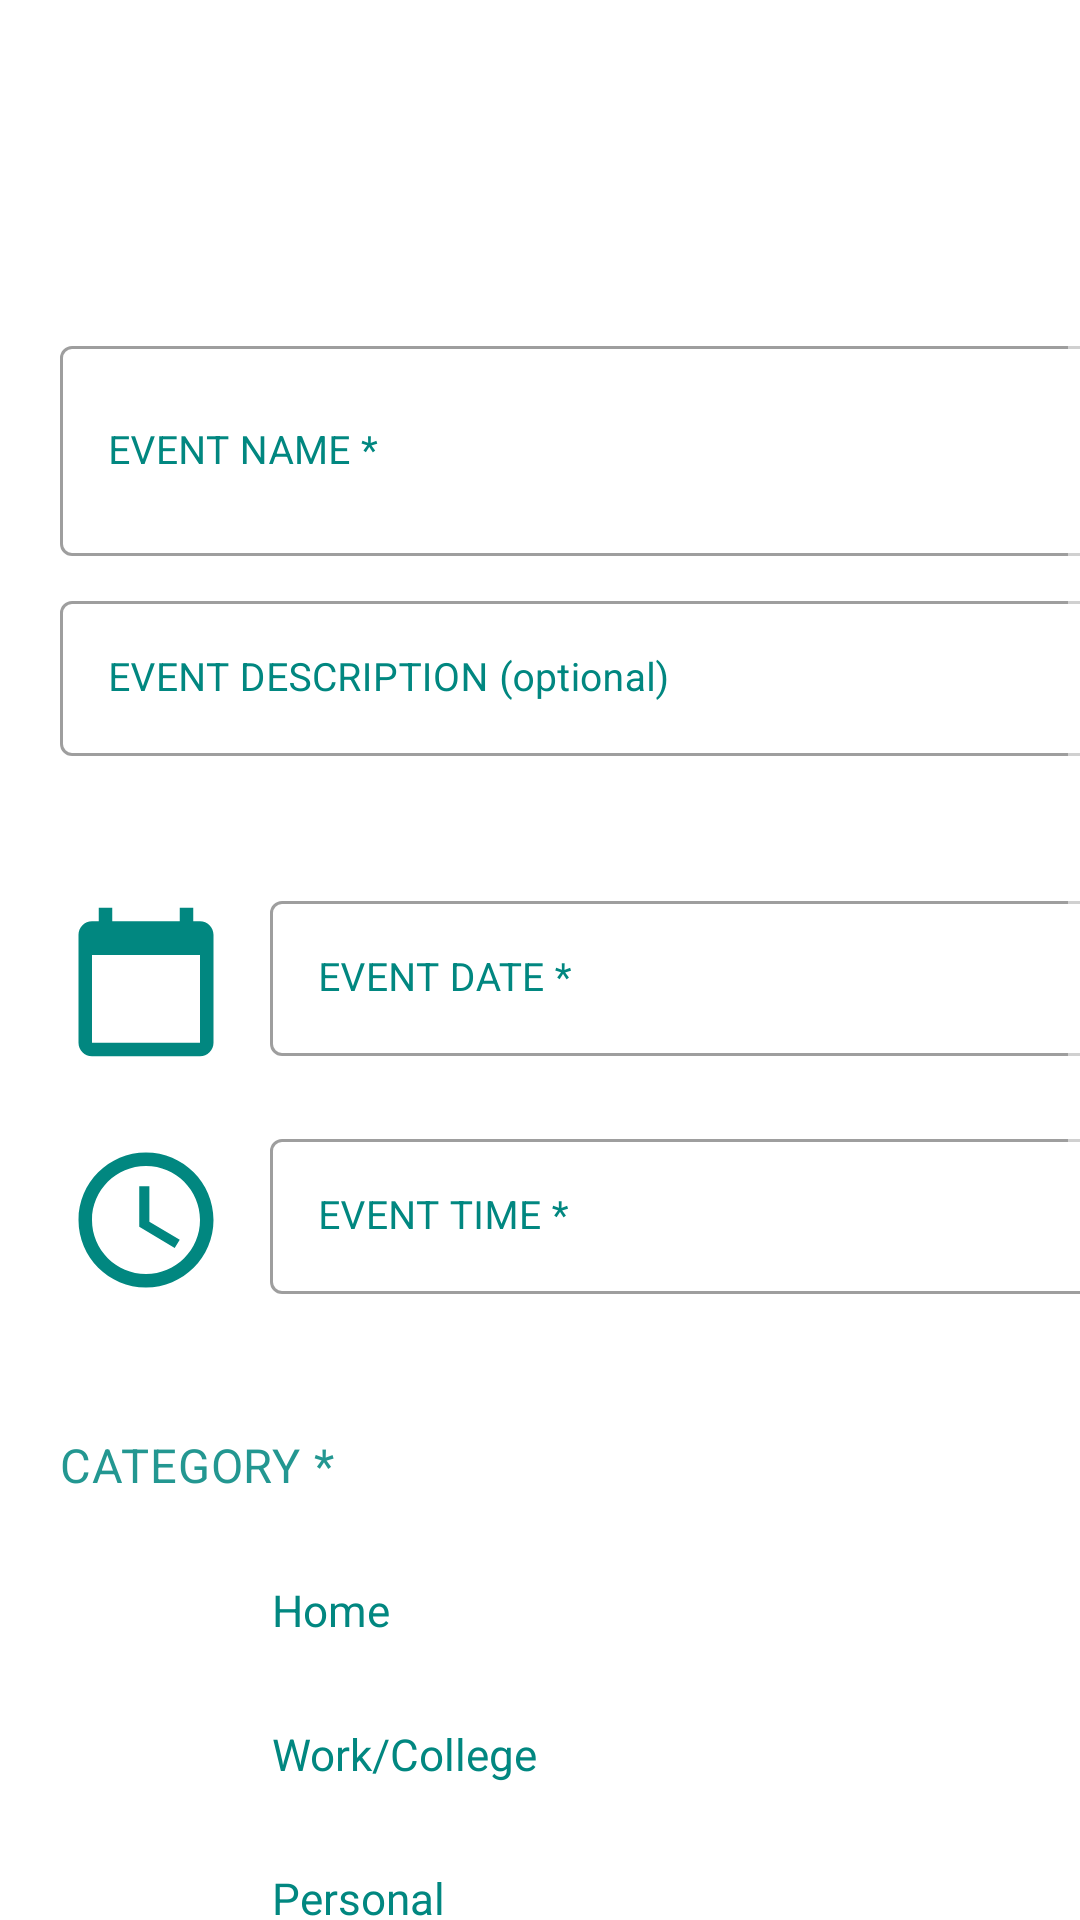

Icons on this 1080px×1920px Android screen, each with its box as (x1,y1,x2,y2):
calendar: (78,907,214,1057)
